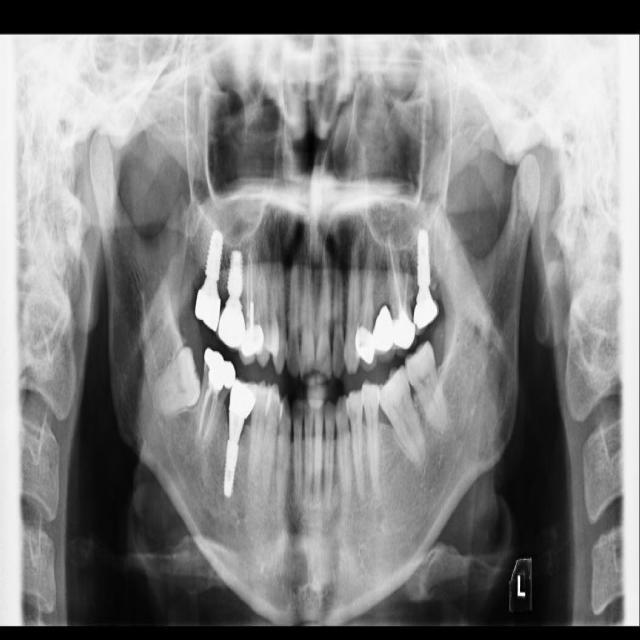52: (195, 341, 246, 393), (209, 307, 252, 352), (369, 304, 399, 365), (223, 375, 262, 420), (190, 288, 225, 332), (351, 325, 379, 372), (238, 324, 265, 365), (390, 317, 416, 355), (413, 298, 438, 337)
73: (190, 367, 234, 455), (384, 232, 416, 323), (243, 244, 260, 327), (560, 581, 574, 591)
BioHorizons Implant: (412, 228, 444, 336)
Blue Sky Bio Implant: (398, 340, 453, 436)
Caries: (191, 229, 234, 335)
Implant: (190, 345, 239, 456)
Keystone Dental Implant: (139, 342, 222, 429)
